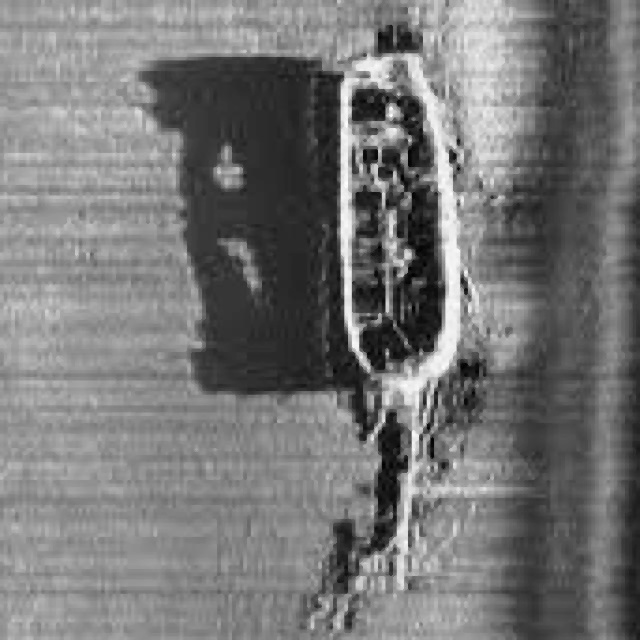Ship: (305, 35, 488, 617)
